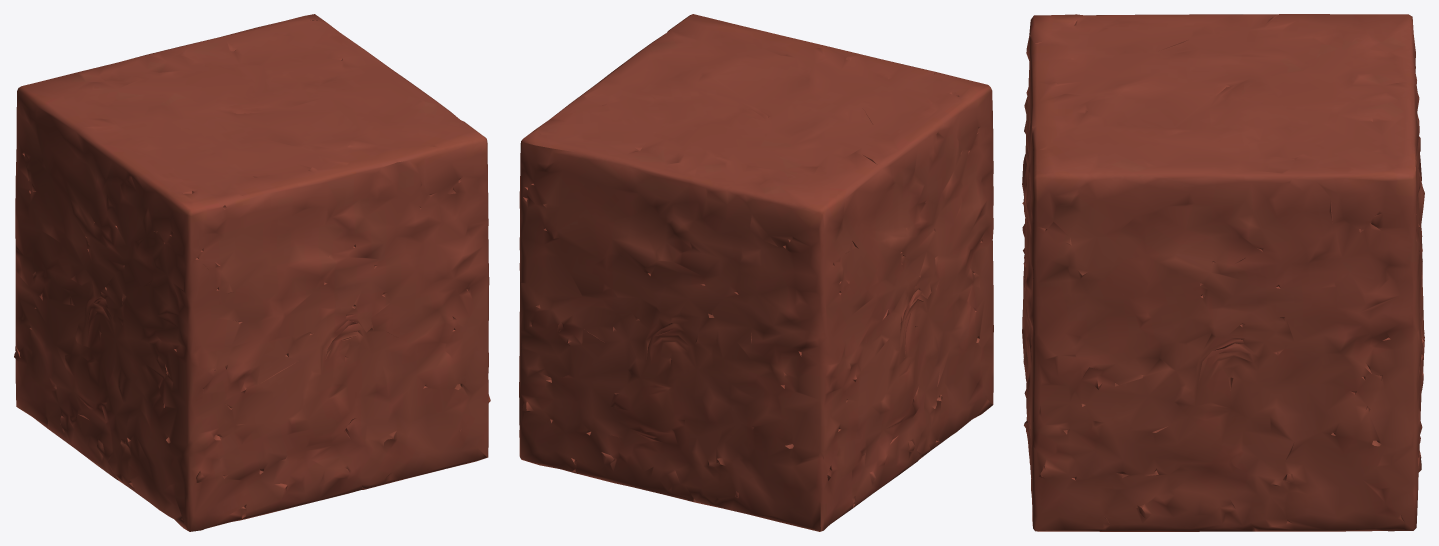
The model's file is block_clay_idle.glb.
3 views of the same model, side by side, from view 1: azimuth 30°, elevation 25°; view 2: azimuth 150°, elevation 25°; view 3: azimuth 270°, elevation 25° (orthographic). The views are drawn at different scales.
Parts seen in each view (by area): view 1: tripo_node_856d2c45-1486-4321-a02d-55d92f5eed12; view 2: tripo_node_856d2c45-1486-4321-a02d-55d92f5eed12; view 3: tripo_node_856d2c45-1486-4321-a02d-55d92f5eed12.
Boxes of the visible parts, bbox=[...] form: tripo_node_856d2c45-1486-4321-a02d-55d92f5eed12: bbox=[14, 14, 490, 531]; tripo_node_856d2c45-1486-4321-a02d-55d92f5eed12: bbox=[519, 14, 993, 531]; tripo_node_856d2c45-1486-4321-a02d-55d92f5eed12: bbox=[1022, 14, 1424, 531].
Bounding box in the file's own units: 1 × 1 × 0.9995.
Materials: 1 (1 with a texture image).
